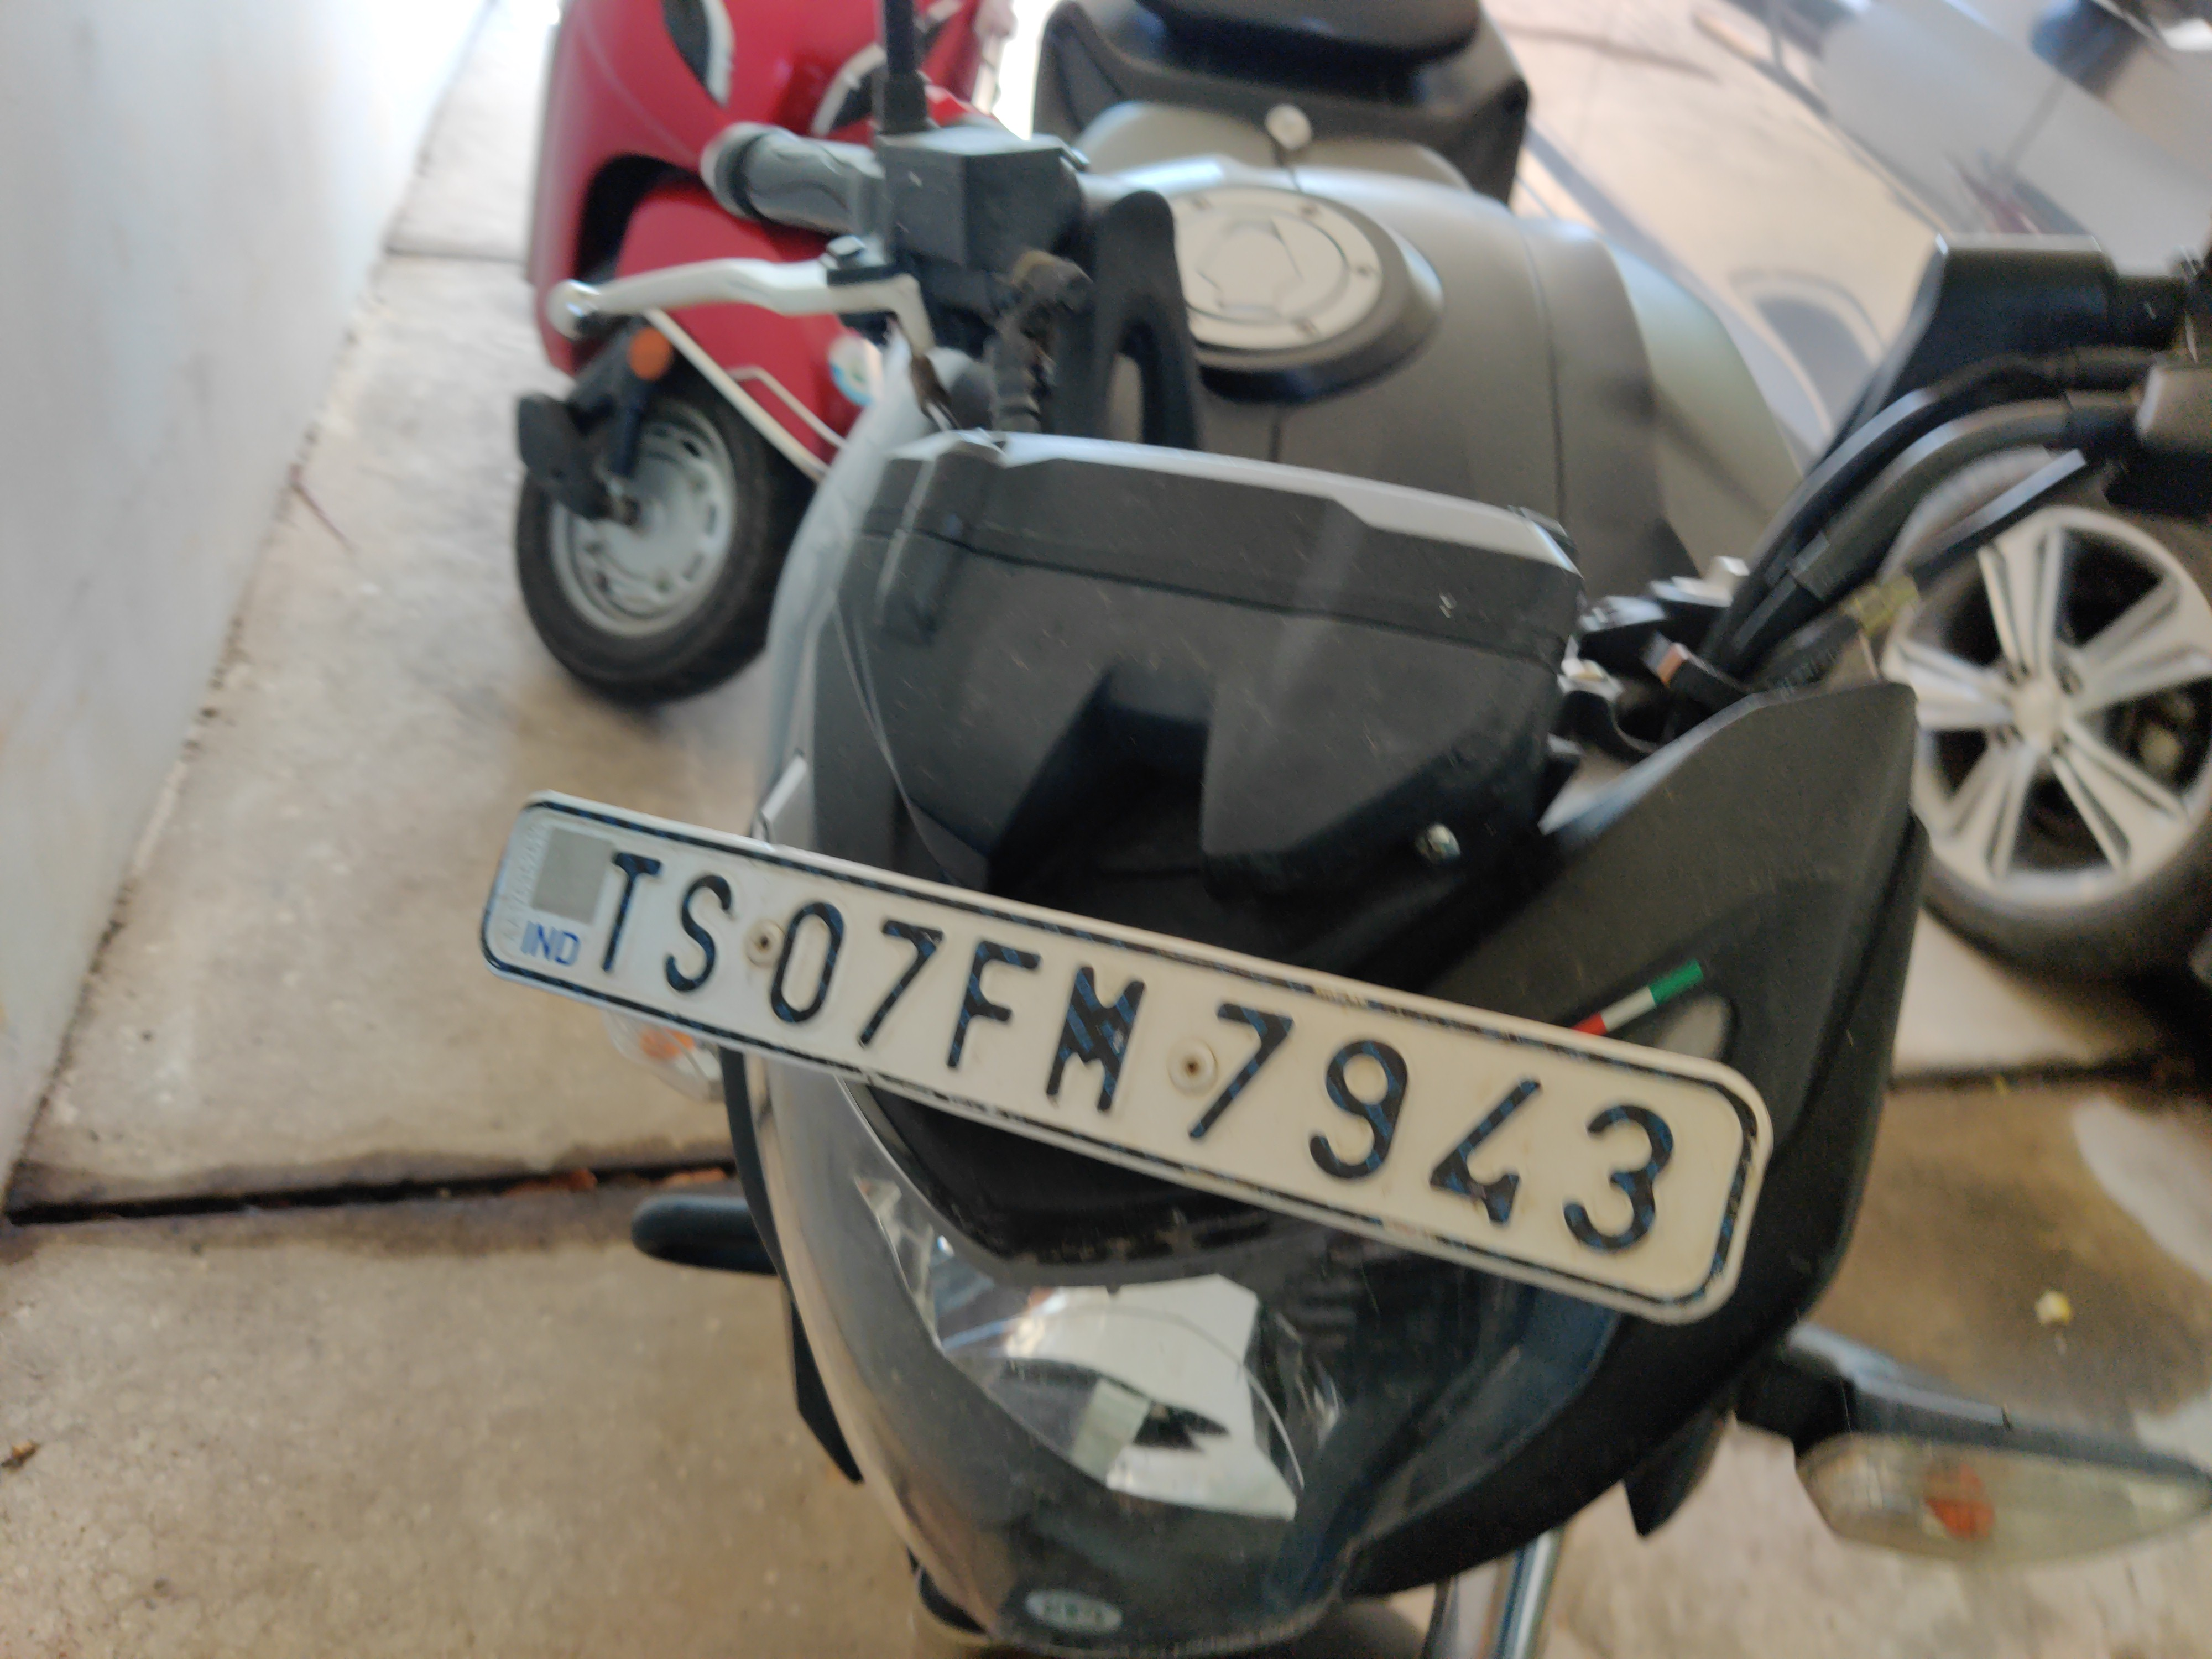plate: (461, 785, 1834, 1334)
